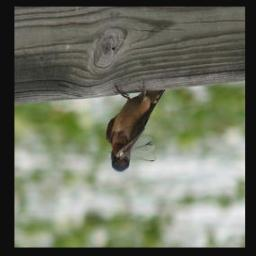Swallow: (106, 78, 166, 173)
